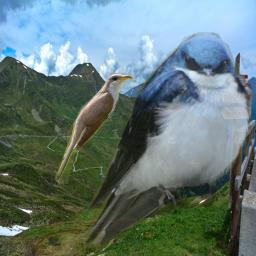Cuckoo: (53, 73, 133, 184)
Swallow: (79, 31, 254, 249)
